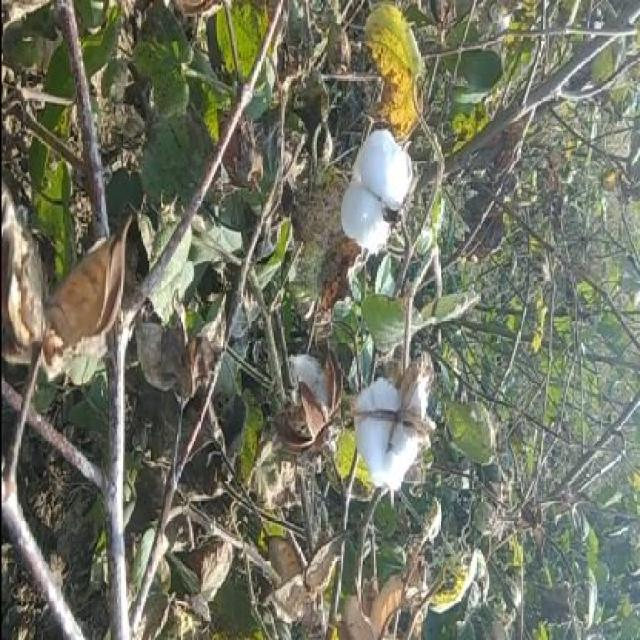cotton_ready: (327, 94, 431, 278), (340, 366, 445, 508)
